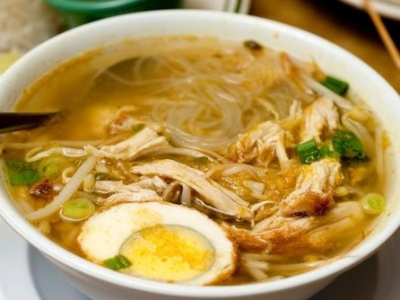soto: (44, 69, 383, 281)
